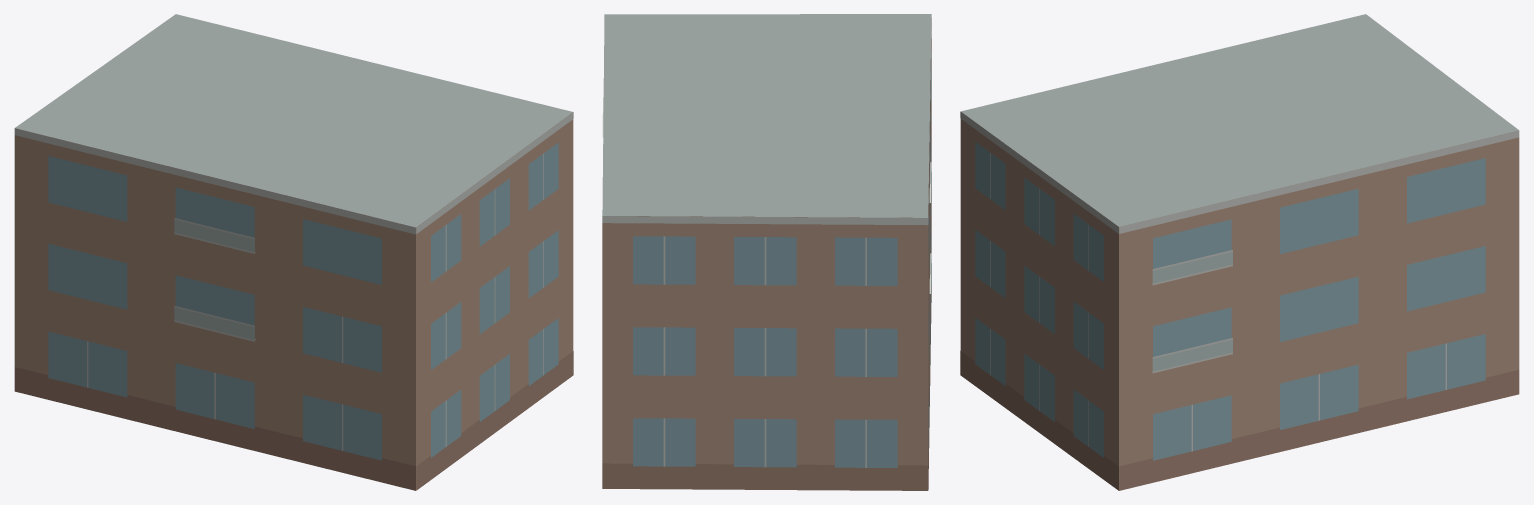
File: survey-upis-32880439.glb
The picture shows the model from 3 angles, left to right: view 1: azimuth 30°, elevation 25°; view 2: azimuth 150°, elevation 25°; view 3: azimuth 270°, elevation 25°; orthographic projection. The views are drawn at different scales.
Visible parts, largest first — view 1: survey-upis-32880439.tmp; view 2: survey-upis-32880439.tmp; view 3: survey-upis-32880439.tmp.
Boxes of the visible parts, x1,y1,x2,y2 form: survey-upis-32880439.tmp: (14,14,573,490); survey-upis-32880439.tmp: (602,14,931,490); survey-upis-32880439.tmp: (960,14,1519,490).
Size of the model in its own units: 15.85 by 9.15 by 17.57.
